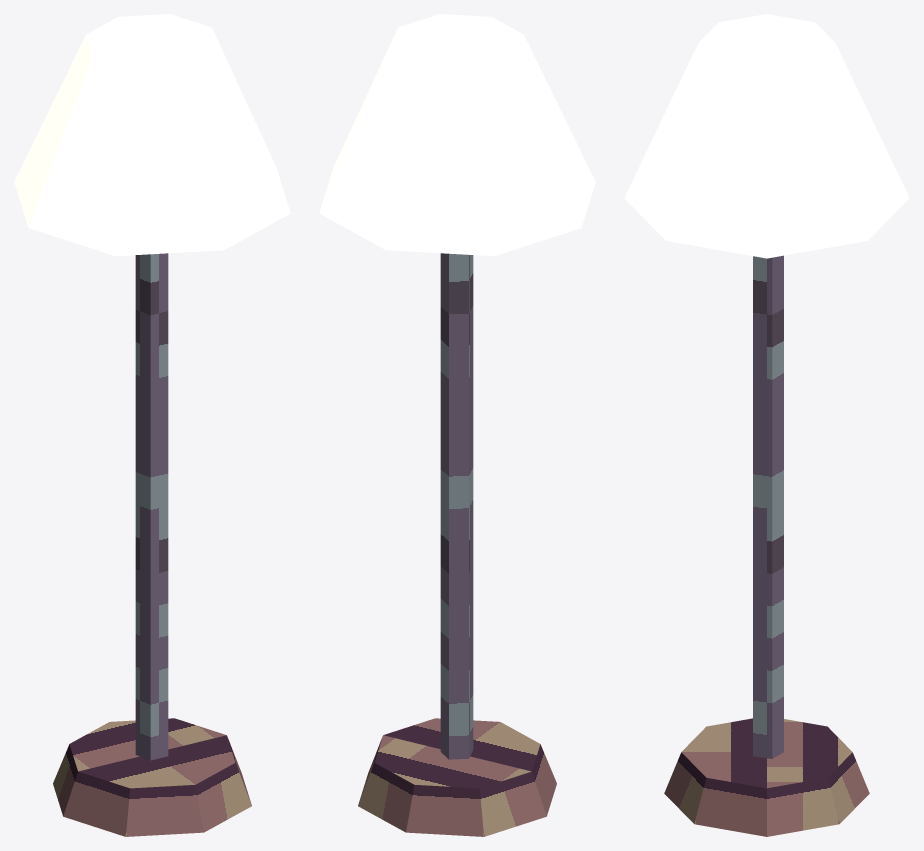
Rendered from movel_r09_05.glb.
3 renders of one model, left to right at view 1: azimuth 30°, elevation 25°; view 2: azimuth 150°, elevation 25°; view 3: azimuth 270°, elevation 25°, orthographic.
Parts seen in each view (by area): view 1: movel_r09_05; view 2: movel_r09_05; view 3: movel_r09_05.
Boxes of the visible parts, bbox=[...] form: movel_r09_05: bbox=[14, 14, 290, 836]; movel_r09_05: bbox=[319, 14, 595, 836]; movel_r09_05: bbox=[624, 14, 909, 836].
Size of the model in its own units: 0.5 by 1.45 by 0.5.
3 materials, 2 textured.
